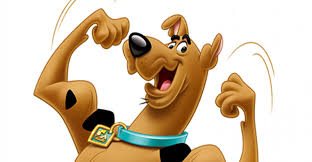scooby: (33, 7, 259, 162)
